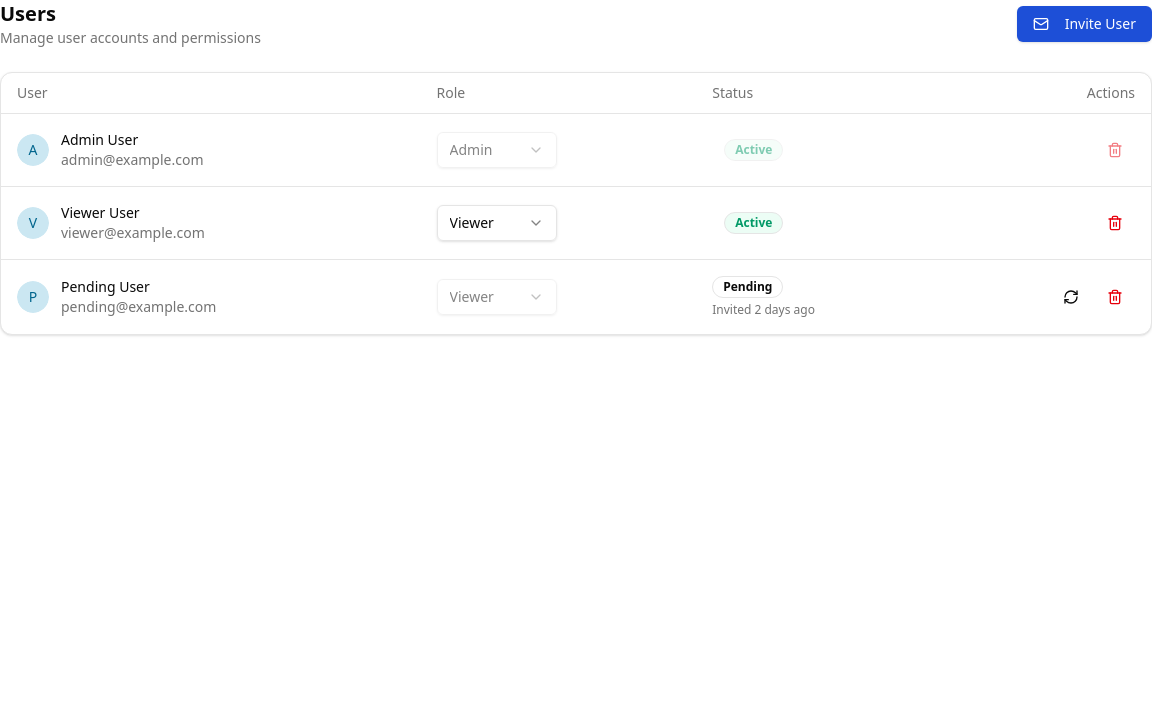
Test: Users Page › validates required fields in add user form
Click the button "Invite User".
click(1084, 24)  # box [1017,6,1151,42]
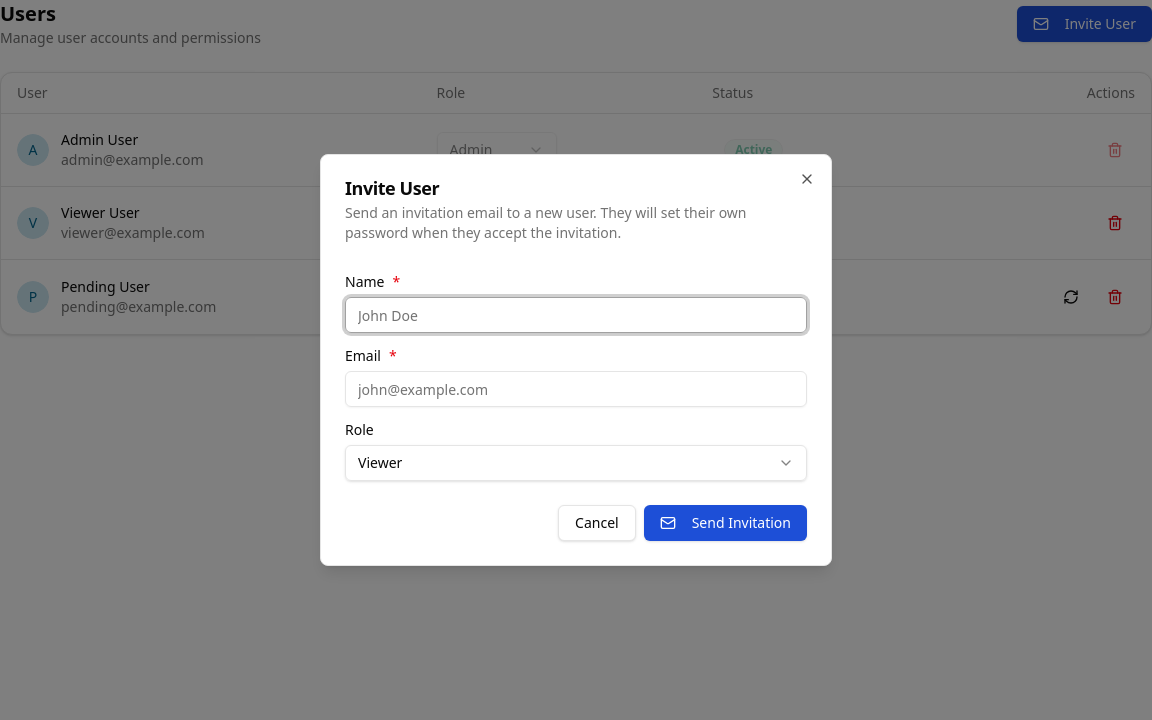
Expected: the field labelled "Name *" is shown, [345,297,807,333]
Expected: the field labelled "Email *" is shown, [345,371,807,407]
Note: Try to submit the form without filling any fields
Click the button "Send Invitation".
click(725, 523)  # box [644,505,807,541]
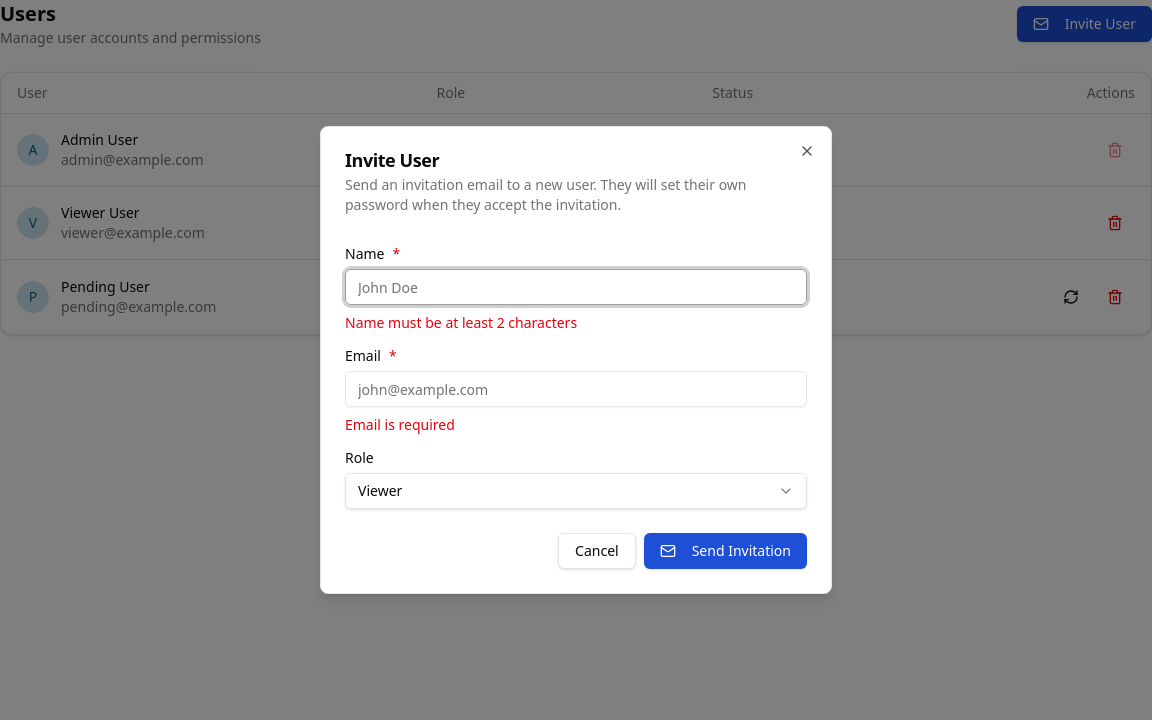
Expected: the text "Name must be at least 2 characters" is shown, [345,313,577,332]
